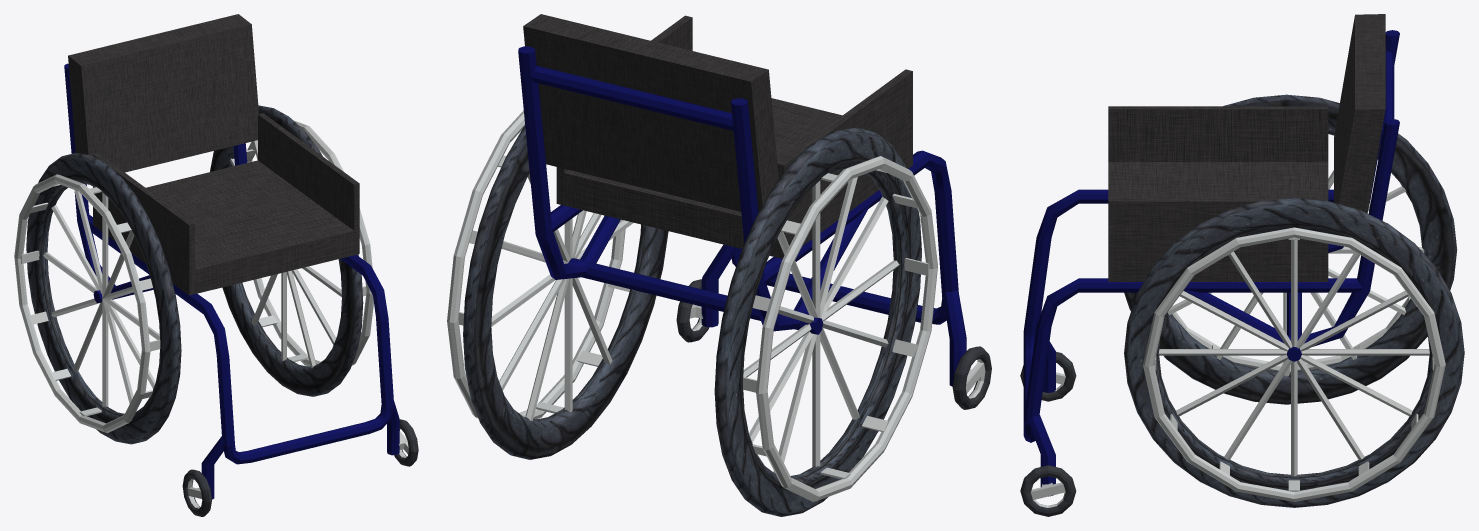
The model's file is Wheelchair (1).fbx.
3 views of the same model, side by side, from view 1: azimuth 30°, elevation 25°; view 2: azimuth 150°, elevation 25°; view 3: azimuth 270°, elevation 25° (orthographic). The views are drawn at different scales.
Parts seen in each view (by area): view 1: Seat, Backrest, pTorus3 (×2), pTorus4 (×2), pCylinder12, pCylinder13, pCylinder11, pCylinder20 (×2), pCylinder14, pCylinder15, pCylinder22, pTorus6 (+10 smaller); view 2: pTorus3 (×2), Backrest, Seat, pTorus4 (×2), pCylinder7, pCylinder14, pCylinder12, pCylinder8, pCylinder15 (×2), pCylinder10, pCylinder17 (×2), pCylinder16 (×2) (+13 smaller); view 3: pTorus3 (×2), Seat, pTorus4 (×2), Backrest, pCylinder11, pCylinder7, pCylinder12, pTorus5, pCylinder18, pCylinder20, pCylinder19, pCylinder17 (+13 smaller).
Boxes of the visible parts, x1,y1,x2,y2 form: Seat: [93, 113, 359, 295]; Backrest: [68, 14, 258, 172]; pTorus3 (×2): [26, 105, 363, 444]; pTorus4 (×2): [14, 120, 373, 433]; pCylinder12: [77, 214, 234, 445]; pCylinder13: [223, 405, 394, 464]; pCylinder11: [340, 255, 393, 407]; pCylinder20 (×2): [73, 140, 316, 370]; pCylinder14: [64, 63, 150, 292]; pCylinder15: [102, 192, 108, 406]; pCylinder22: [74, 190, 132, 403]; pTorus6: [182, 469, 211, 516]; pTorus3 (×2): [463, 125, 921, 516]; Backrest: [523, 14, 778, 211]; Seat: [556, 15, 912, 258]; pTorus4 (×2): [447, 110, 937, 501]; pCylinder7: [518, 46, 620, 279]; pCylinder14: [731, 98, 870, 331]; pCylinder12: [762, 150, 958, 297]; pCylinder8: [530, 66, 733, 130]; pCylinder15 (×2): [564, 181, 820, 466]; pCylinder10: [568, 258, 823, 334]; pCylinder17 (×2): [499, 213, 888, 390]; pCylinder16 (×2): [529, 210, 859, 421]; pTorus3 (×2): [1124, 94, 1464, 507]; Seat: [1108, 106, 1328, 281]; pTorus4 (×2): [1143, 227, 1445, 501]; Backrest: [1334, 14, 1385, 213]; pCylinder11: [1023, 278, 1365, 423]; pCylinder7: [1183, 119, 1399, 346]; pCylinder12: [1023, 189, 1333, 335]; pTorus5: [1020, 465, 1076, 516]; pCylinder18: [1159, 349, 1429, 355]; pCylinder20: [1224, 251, 1360, 459]; pCylinder19: [1176, 291, 1408, 416]; pCylinder17: [1181, 291, 1412, 416].
Bounding box in the file's own units: 27.69 × 39.07 × 39.61.
